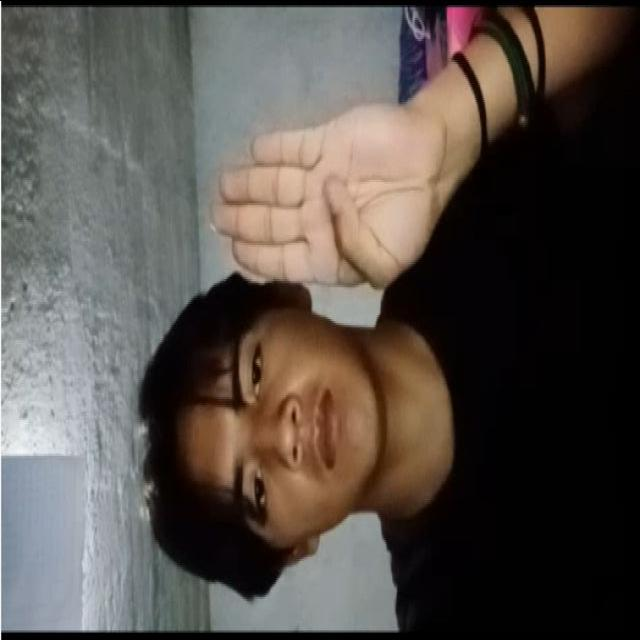B: (211, 68, 456, 310)
